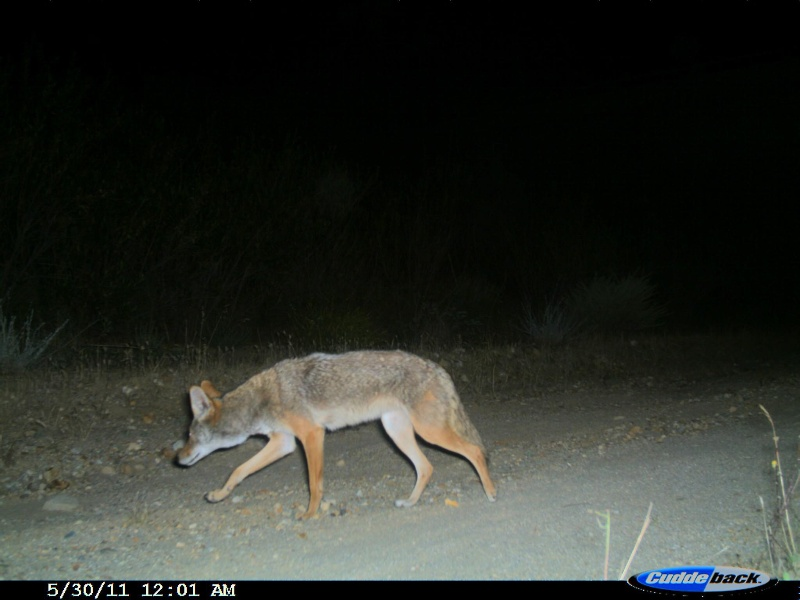coyote: (175, 344, 500, 522)
